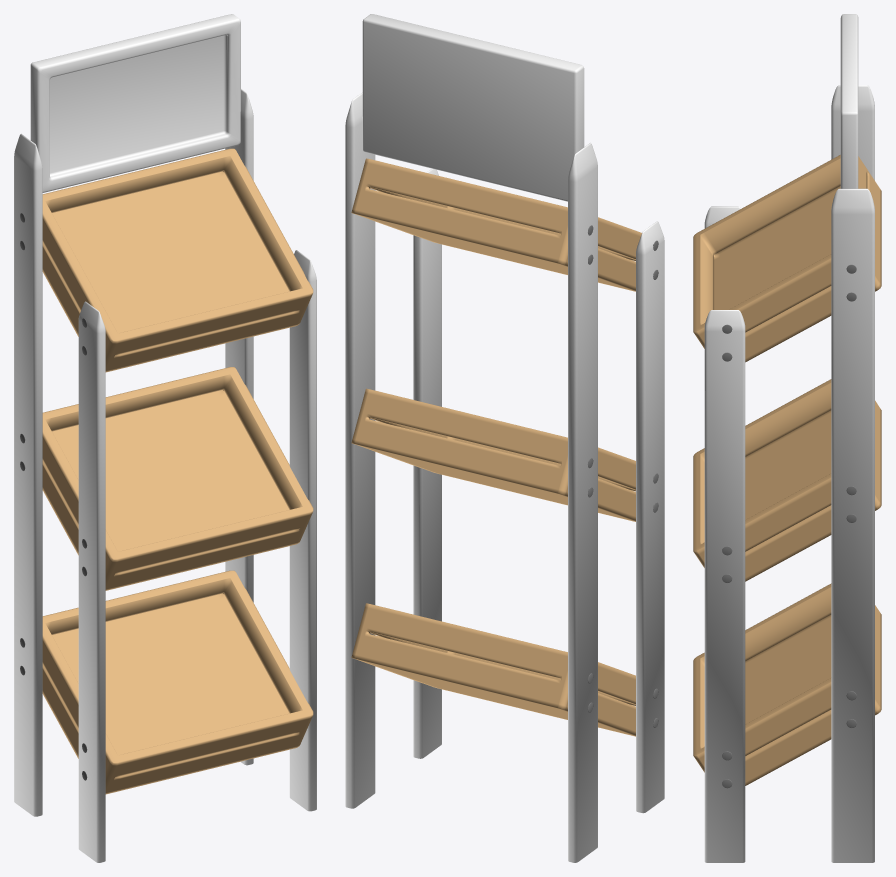
The model's file is crisper.fbx.
3 renders of one model, left to right at view 1: azimuth 30°, elevation 25°; view 2: azimuth 150°, elevation 25°; view 3: azimuth 270°, elevation 25°, orthographic. The views are drawn at different scales.
Parts seen in each view (by area): view 1: registers, white_sticks, top_white; view 2: white_sticks, registers, top_white; view 3: white_sticks, registers, top_white, screws.
Boxes of the visible parts, x1,y1,x2,y2 form: registers: [42, 148, 313, 794]; white_sticks: [14, 88, 316, 862]; top_white: [30, 14, 240, 192]; white_sticks: [345, 92, 664, 862]; registers: [351, 158, 641, 736]; top_white: [362, 14, 584, 201]; white_sticks: [704, 85, 874, 862]; registers: [693, 155, 881, 785]; top_white: [840, 14, 858, 188]; screws: [722, 264, 856, 788].
Size of the model in its own units: 105 by 333 by 76.21.
